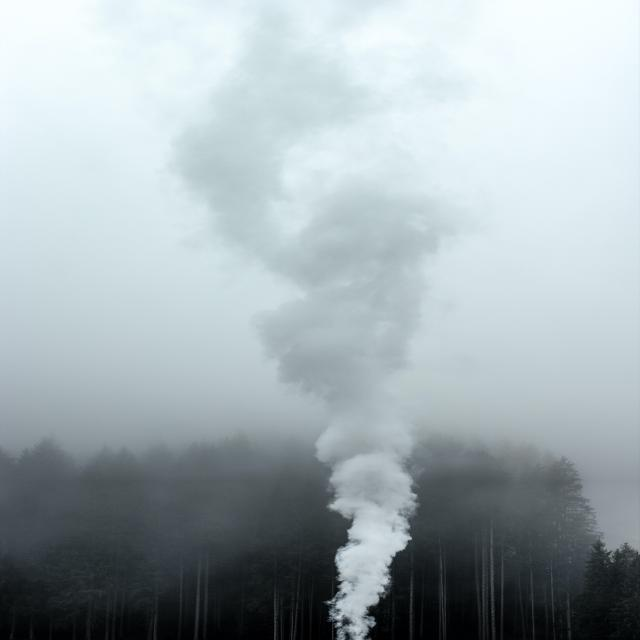Smoke: (198, 36, 443, 637)
